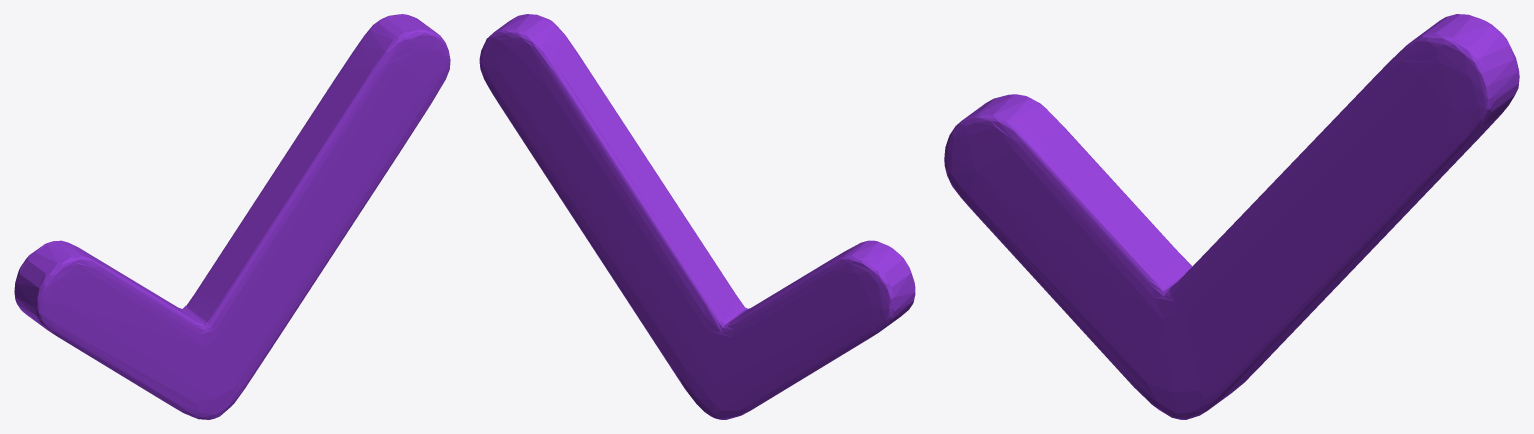
The model's file is qualification-check.glb.
3 views of the same model, side by side, from view 1: azimuth 30°, elevation 25°; view 2: azimuth 150°, elevation 25°; view 3: azimuth 330°, elevation 25° (orthographic). The views are drawn at different scales.
Parts seen in each view (by area): view 1: Node1; view 2: Node1; view 3: Node1.
Part boxes in pixels (<box>): Node1: <box>14,14,450,419</box>; Node1: <box>479,14,915,419</box>; Node1: <box>944,14,1519,419</box>.
Size of the model in its own units: 1.65 by 1.29 by 0.1821.
